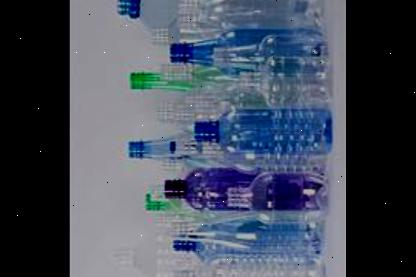Plastic Bottle: (119, 0, 334, 277)
